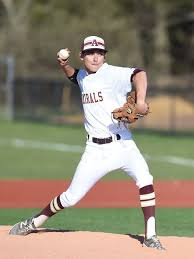baseball: (57, 47, 72, 61)
baseball player: (8, 34, 165, 251)
